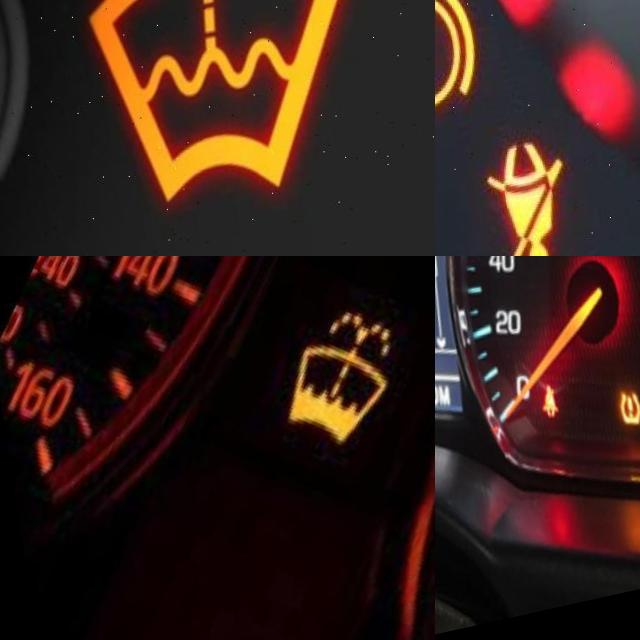Seat Belt: (468, 151, 565, 256)
Washer Fluid: (264, 318, 393, 467)
